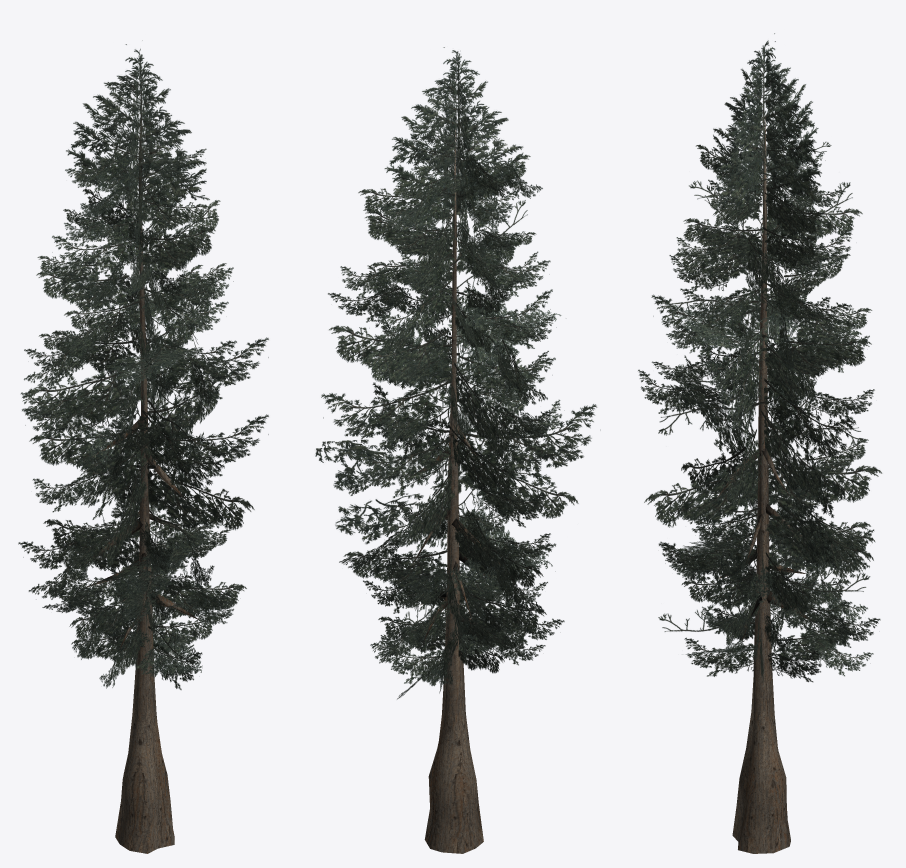
File: forest_oak_0.glb
The picture shows the model from 3 angles, left to right: view 1: azimuth 30°, elevation 25°; view 2: azimuth 150°, elevation 25°; view 3: azimuth 270°, elevation 25°; orthographic projection.
Visible parts, largest first — view 1: Tree_Branches_01_Tree_Branches_01_0, Tree_Trunk_01.001_Tree_Trunk_01_0; view 2: Tree_Branches_01_Tree_Branches_01_0, Tree_Trunk_01.001_Tree_Trunk_01_0; view 3: Tree_Branches_01_Tree_Branches_01_0, Tree_Trunk_01.001_Tree_Trunk_01_0.
Boxes of the visible parts, left/top/right/bottom form: Tree_Branches_01_Tree_Branches_01_0: left=18, top=40, right=268, bottom=689; Tree_Trunk_01.001_Tree_Trunk_01_0: left=83, top=207, right=200, bottom=853; Tree_Branches_01_Tree_Branches_01_0: left=315, top=47, right=600, bottom=699; Tree_Trunk_01.001_Tree_Trunk_01_0: left=404, top=129, right=506, bottom=853; Tree_Branches_01_Tree_Branches_01_0: left=638, top=33, right=882, bottom=682; Tree_Trunk_01.001_Tree_Trunk_01_0: left=716, top=114, right=814, bottom=853.
Size of the model in its own units: 3.9 by 12.71 by 3.74.
2 materials, 2 textured.
